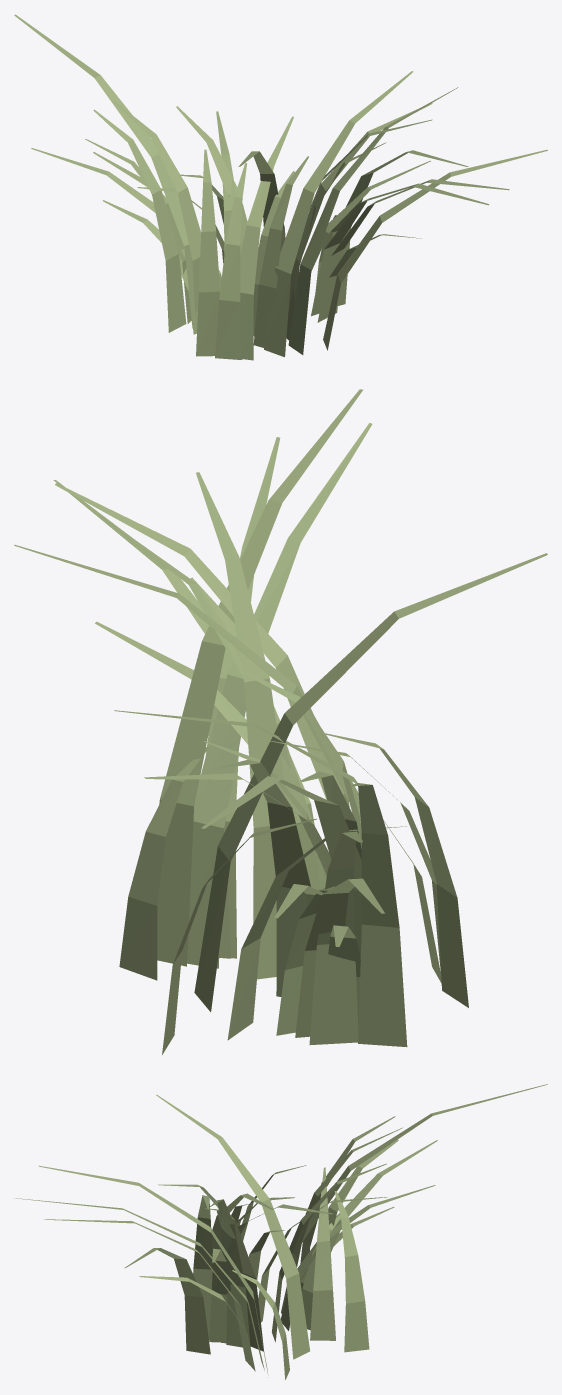
File: temperate-forest-ecology-wood-sedge-clump-9f0b2abd__3848.glb
3 renders of one model, top to bottom at view 1: azimuth 30°, elevation 25°; view 2: azimuth 150°, elevation 25°; view 3: azimuth 270°, elevation 25°, orthographic. The views are drawn at different scales.
Visible parts, largest first — view 1: wood-sedge-clump; view 2: wood-sedge-clump; view 3: wood-sedge-clump.
Part boxes in pixels (x1=…): wood-sedge-clump: x1=14, y1=14, x2=547, y2=360; wood-sedge-clump: x1=14, y1=389, x2=547, y2=1054; wood-sedge-clump: x1=14, y1=1084, x2=547, y2=1379.
Bounding box in the file's own units: 0.9039 × 0.5583 × 1.27.
